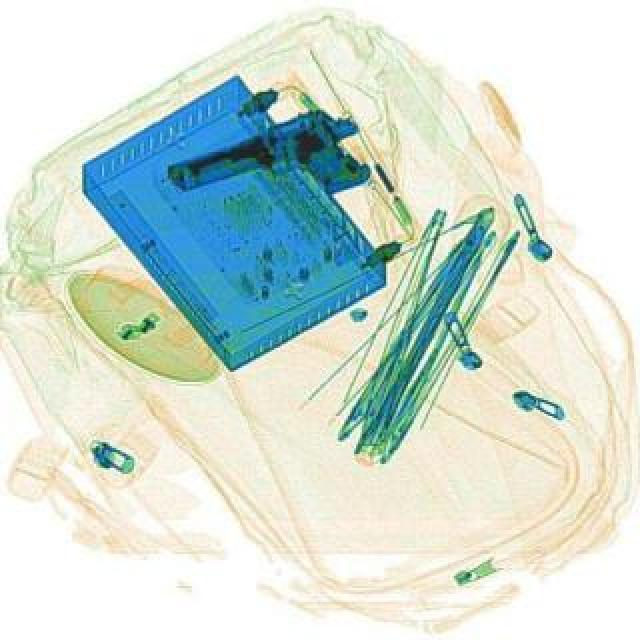gun: (162, 98, 380, 242)
